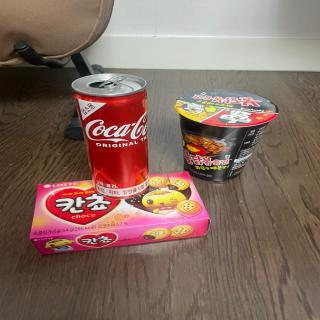cocacola: (67, 72, 160, 193)
